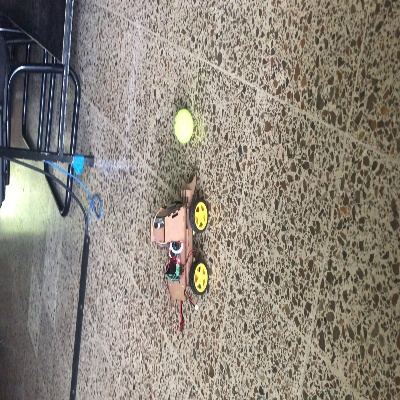Ball: (174, 109, 193, 143)
Robot: (149, 173, 209, 302)
